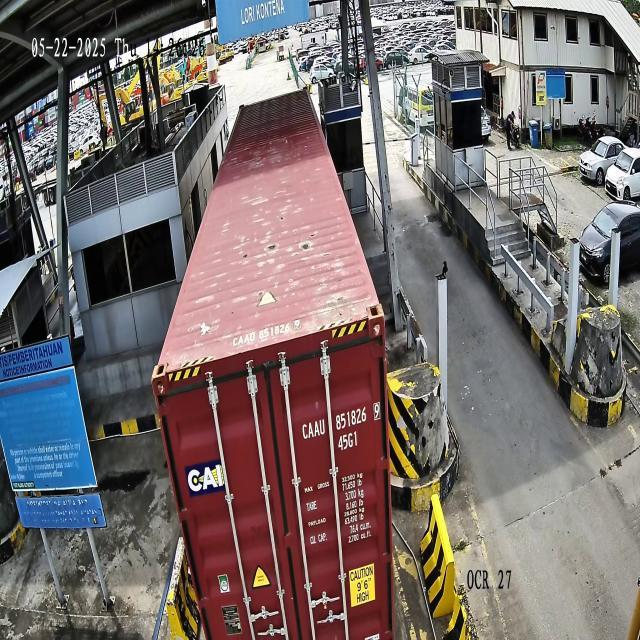ISO: (338, 431, 358, 454)
container_number: (302, 400, 381, 444)
